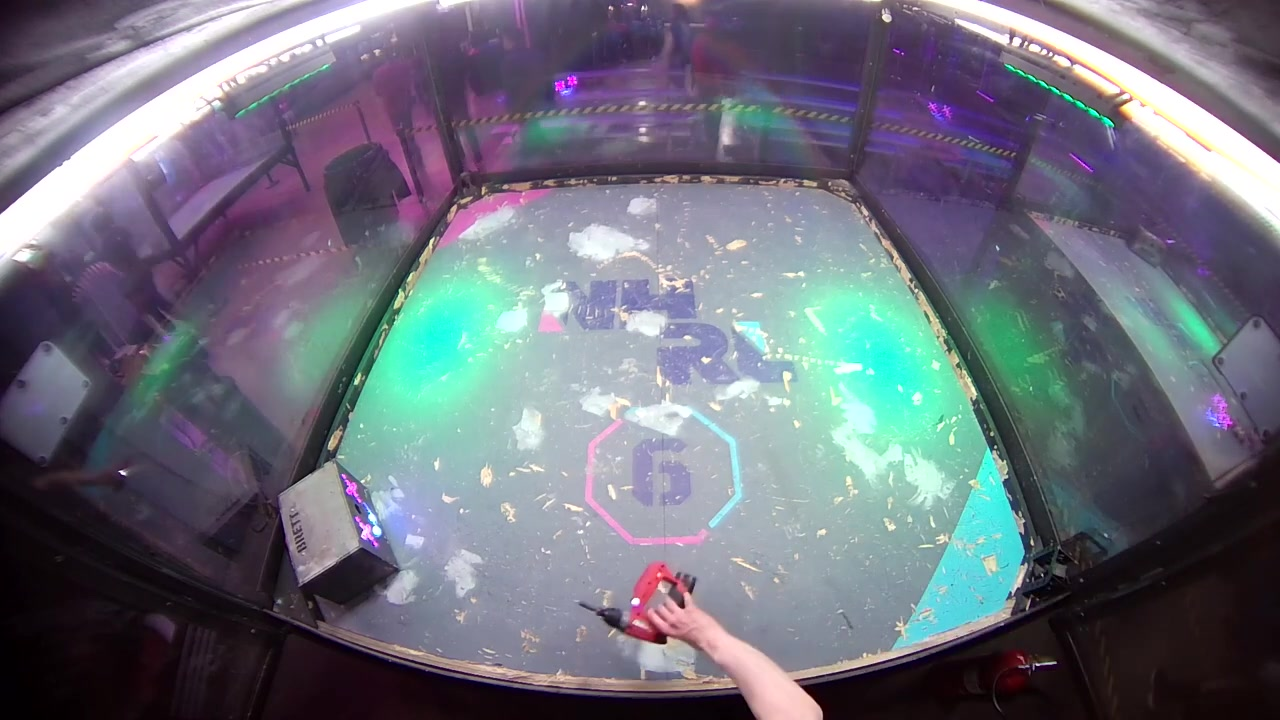housebot: (278, 462, 401, 606)
